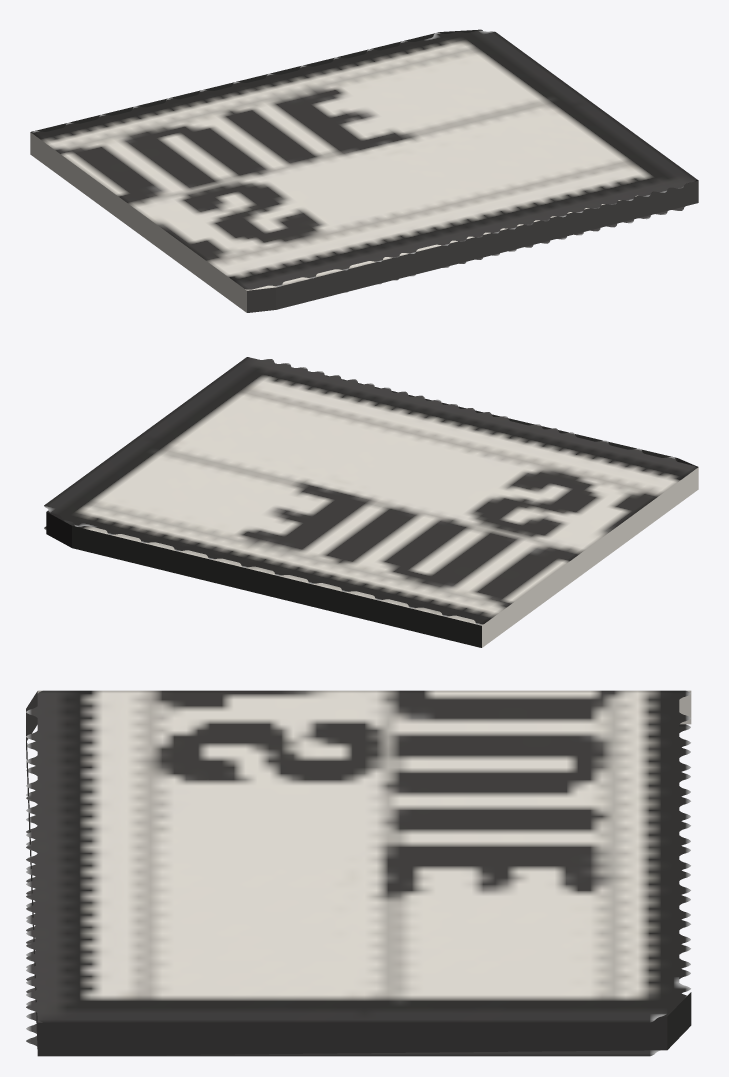
File: pz_native_location_entertainment_theatre_01_73_frame.obj
3 renders of one model, top to bottom at view 1: azimuth 30°, elevation 25°; view 2: azimuth 150°, elevation 25°; view 3: azimuth 270°, elevation 25°, orthographic. The views are drawn at different scales.
Visible parts, largest first — view 1: pz_native_location_entertainment_theatre_01_73_frame; view 2: pz_native_location_entertainment_theatre_01_73_frame; view 3: pz_native_location_entertainment_theatre_01_73_frame.
Boxes of the visible parts, x1,y1,x2,y2 form: pz_native_location_entertainment_theatre_01_73_frame: [30, 29, 698, 312]; pz_native_location_entertainment_theatre_01_73_frame: [44, 357, 698, 647]; pz_native_location_entertainment_theatre_01_73_frame: [26, 690, 691, 1056].
Size of the model in its own units: 0.875 by 0.04 by 0.7527.
1 material, 1 textured.
